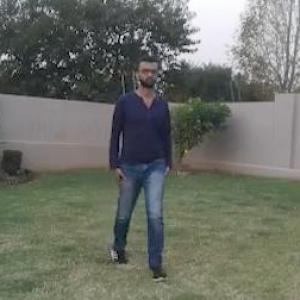follow: (118, 66, 170, 246)
